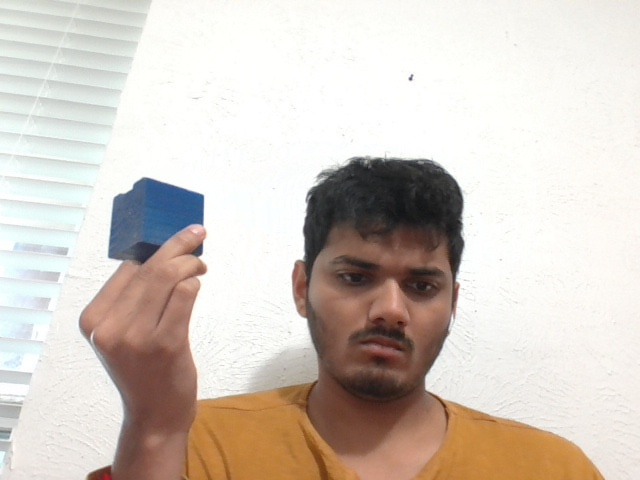BlueBlock: (108, 177, 206, 255)
